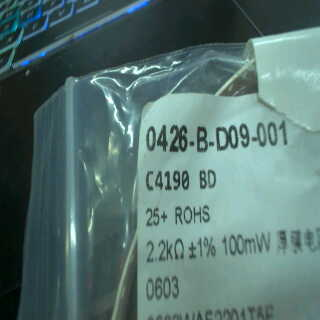2.2kR: (143, 234, 189, 266)
